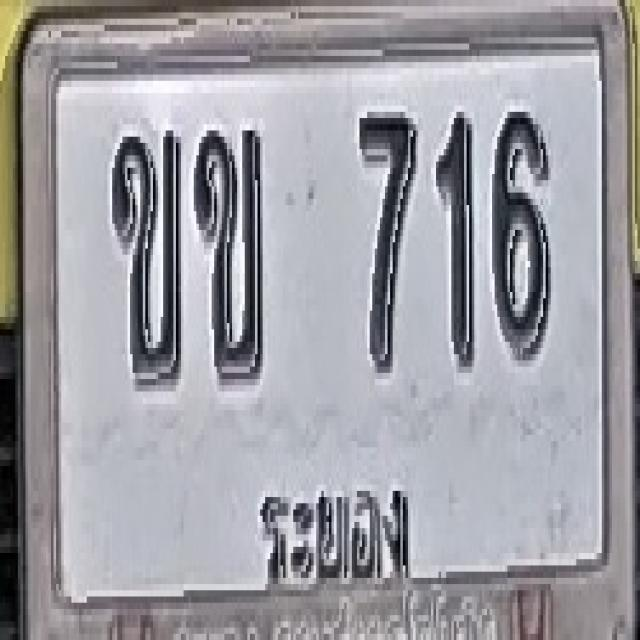-: (111, 124, 182, 386), (195, 121, 264, 382)
1: (435, 106, 473, 367)
6: (492, 102, 551, 358)
7: (358, 105, 417, 372)
RYG: (244, 471, 416, 611)
